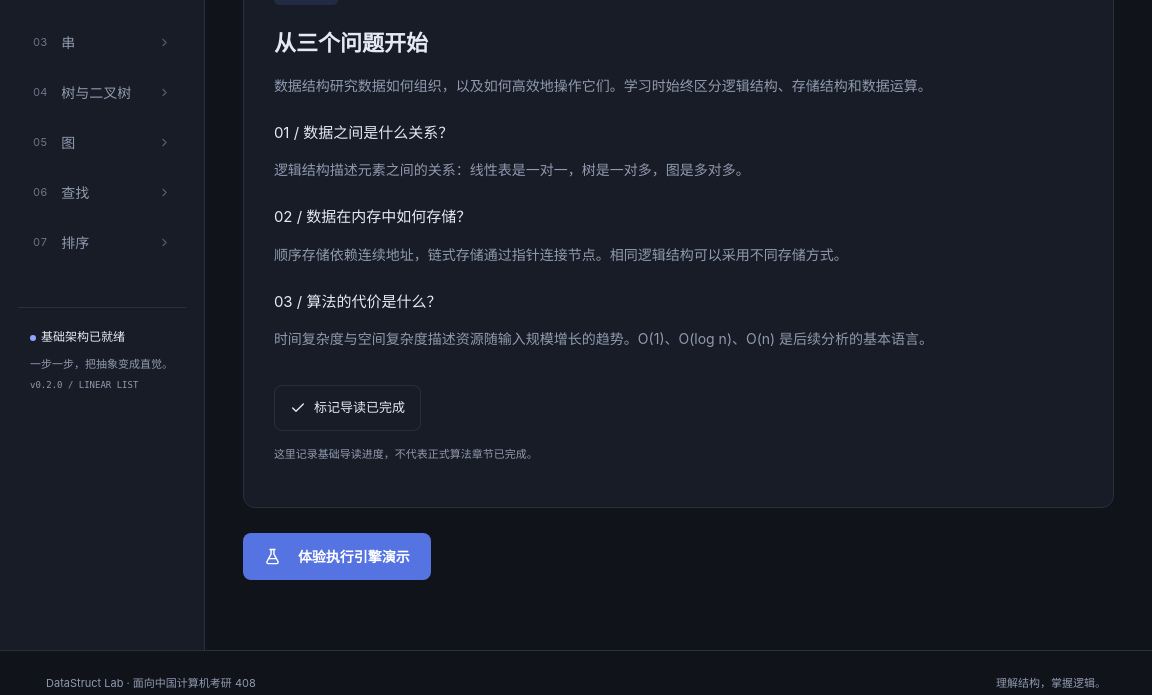
Test: Phase 1 基础交互 › 保存真实导读进度和最近浏览记录
(page scrolled)
Click the button "标记导读已完成" at (347, 408), box x1=274 y1=385 x2=421 y2=431
(page scrolled)
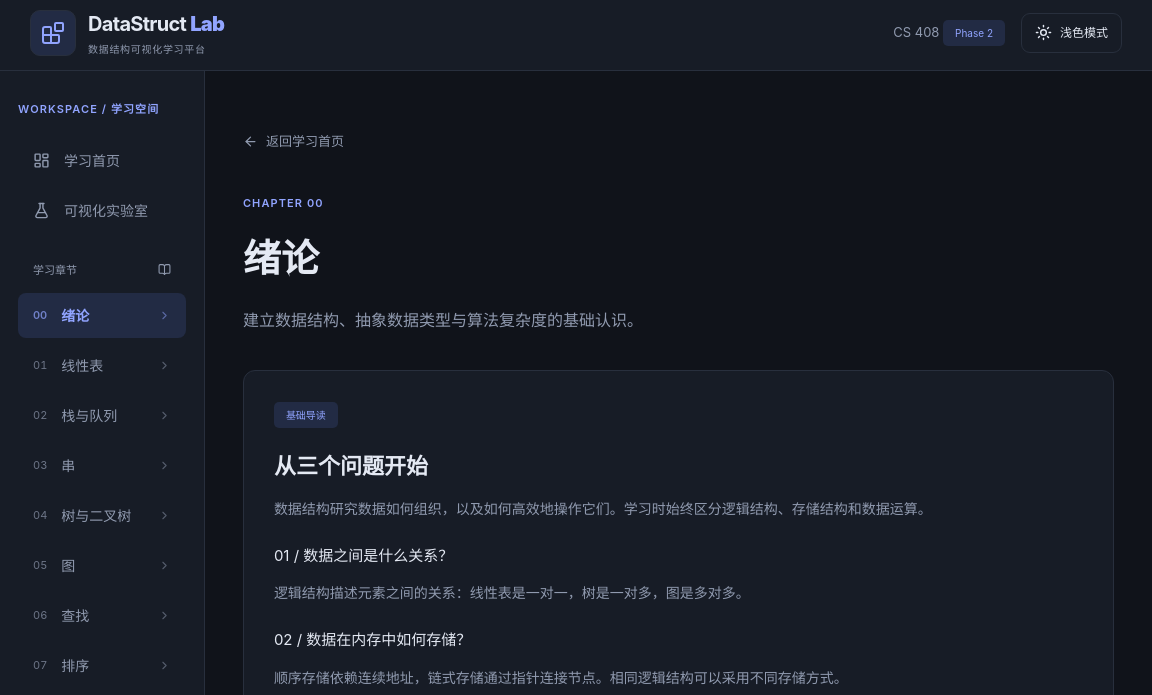
Click the link "返回学习首页" at (293, 142), box x1=243 y1=132 x2=344 y2=151
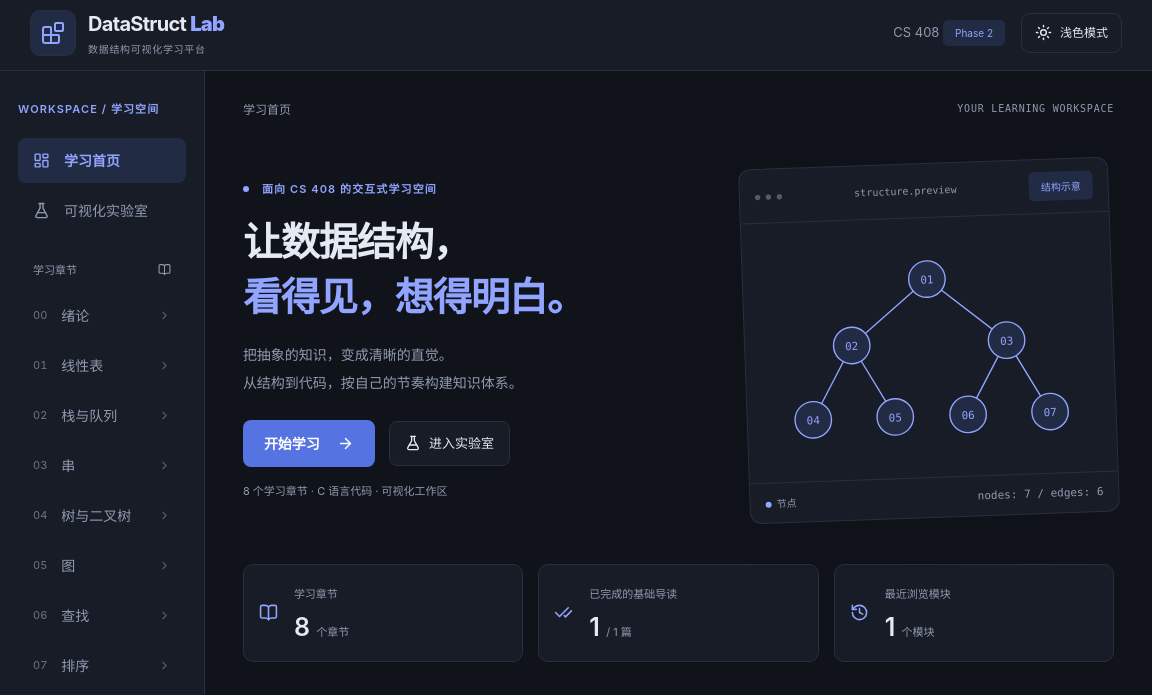
Result: the element named "学习进度" shows "1 / 1 篇" at x1=243 y1=564 x2=1114 y2=662
